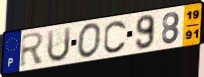8: (161, 11, 181, 45)
9: (133, 13, 156, 51)
C: (103, 19, 129, 55)
O: (76, 22, 103, 60)
R: (19, 31, 46, 69)
U: (45, 25, 72, 64)
